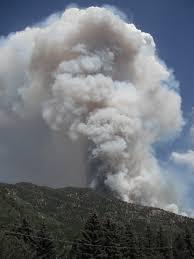yanwu: (1, 0, 189, 214)
